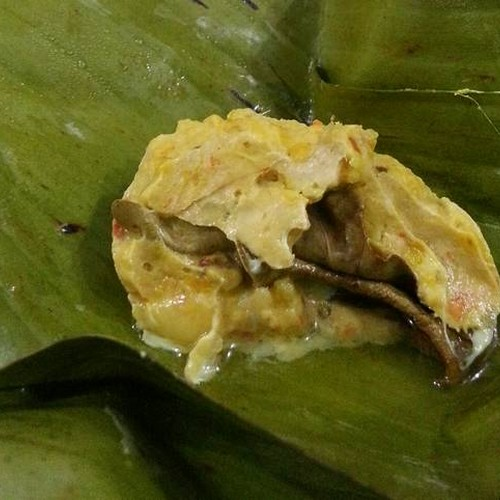tum ayam: (115, 101, 499, 381)
